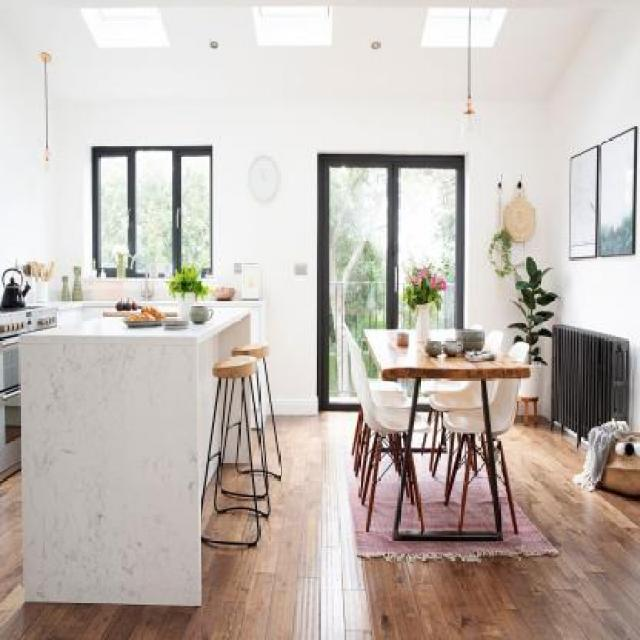Floor: (0, 410, 639, 639), (200, 466, 258, 543), (216, 464, 256, 509), (221, 463, 254, 495), (263, 414, 280, 476), (251, 429, 263, 470), (258, 430, 266, 470), (253, 472, 266, 495), (255, 496, 269, 515), (238, 464, 250, 471)
